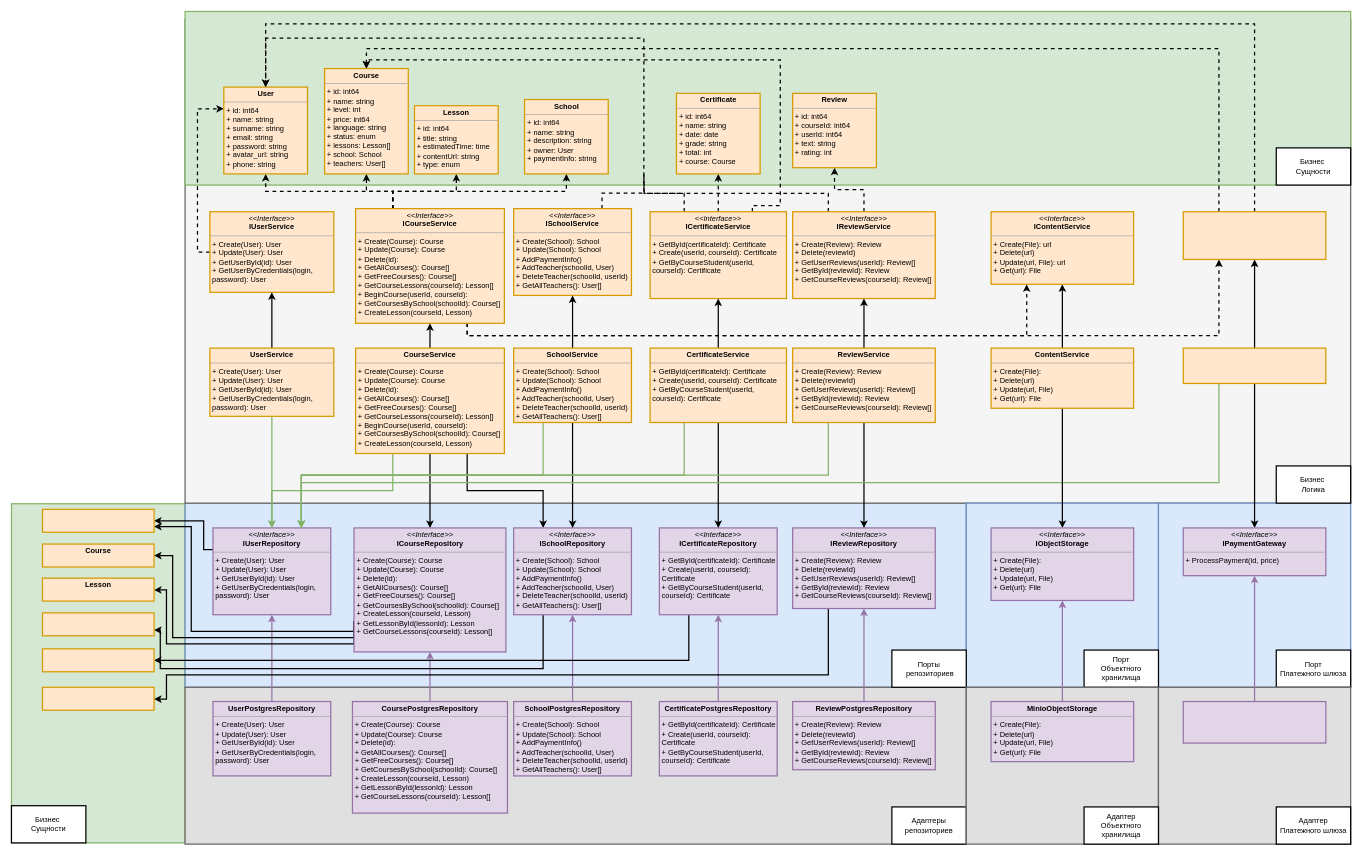
Image size: 1362x855. Some labels were removed from this diagram. Each missing label, with the box of its shape:
<<Interface>> IPaymentService + ProcessCoursePayment(User, Course): (1182, 211, 1326, 260)
Certificate: (42, 648, 154, 672)
PaymentService + ProcessCoursePayment(User, Course): (1182, 347, 1326, 384)
Review: (42, 686, 154, 711)
School: (42, 612, 154, 636)
User: (42, 508, 154, 533)
YoomoneyPaymentGateway + ProcessPayment(id, price): (1182, 701, 1326, 743)
